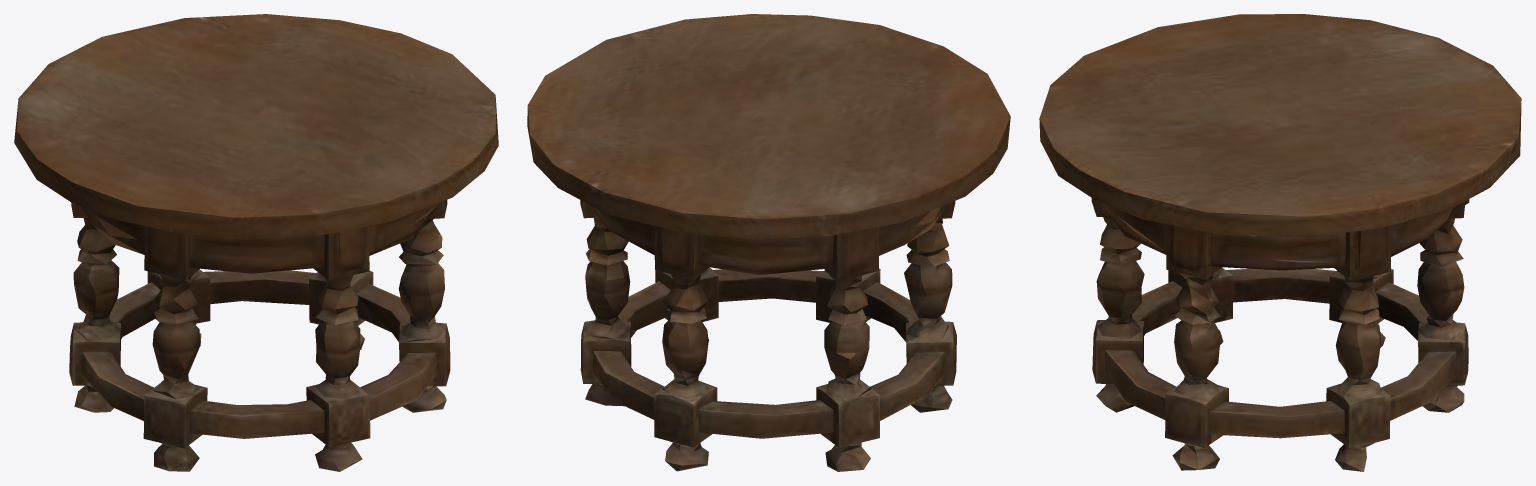
The model's file is table-round-low.lod1.glb.
The picture shows the model from 3 angles, left to right: view 1: azimuth 30°, elevation 25°; view 2: azimuth 150°, elevation 25°; view 3: azimuth 270°, elevation 25°; orthographic projection.
Visible parts, largest first — view 1: table-round-low; view 2: table-round-low; view 3: table-round-low.
Part boxes in pixels (x1,y1,x2,y2): table-round-low: (14, 14, 498, 471); table-round-low: (527, 14, 1010, 471); table-round-low: (1039, 14, 1521, 471).
Bounding box in the file's own units: 0.7844 × 0.5217 × 0.7836.
1 material, 1 textured.
